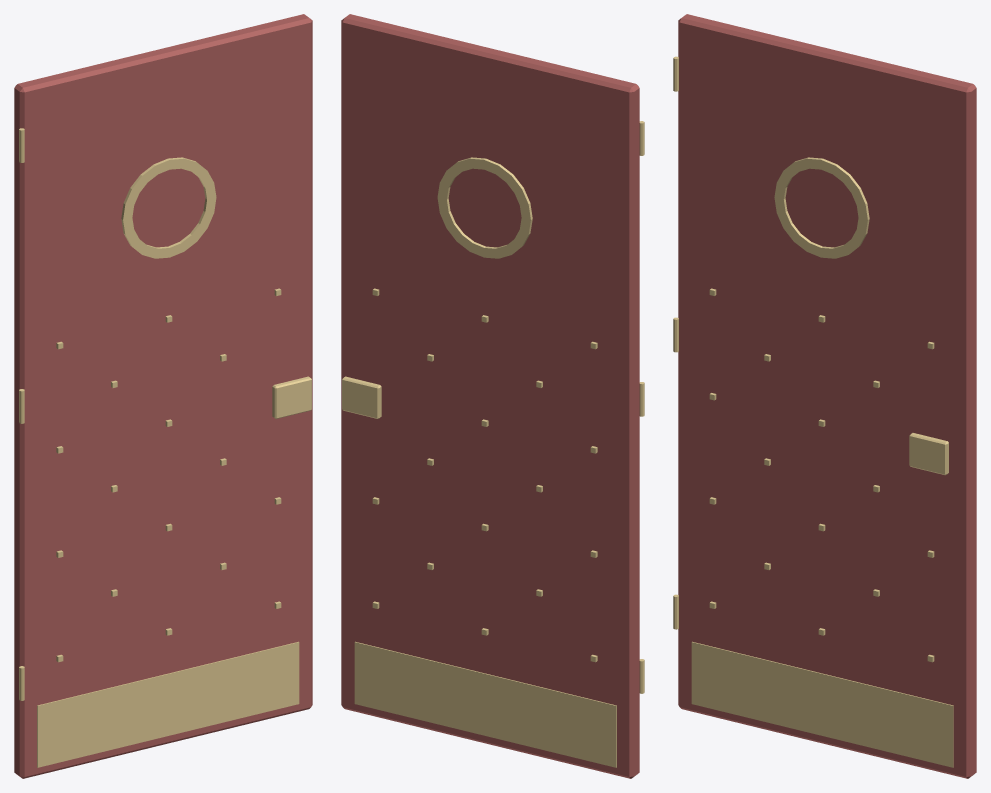
The model's file is door_leaf_aud.glb.
3 views of the same model, side by side, from view 1: azimuth 30°, elevation 25°; view 2: azimuth 150°, elevation 25°; view 3: azimuth 330°, elevation 25° (orthographic).
Visible parts, largest first — view 1: door_leaf_aud_door, door_leaf_aud_gold; view 2: door_leaf_aud_door, door_leaf_aud_gold; view 3: door_leaf_aud_door, door_leaf_aud_gold.
Boxes of the visible parts, x1,y1,x2,y2 form: door_leaf_aud_door: (14, 14, 312, 778); door_leaf_aud_gold: (19, 128, 311, 767); door_leaf_aud_door: (341, 14, 639, 778); door_leaf_aud_gold: (342, 121, 644, 767); door_leaf_aud_door: (678, 14, 976, 778); door_leaf_aud_gold: (673, 56, 953, 767).
Bounding box in the file's own units: 0.948 × 2.12 × 0.17.
